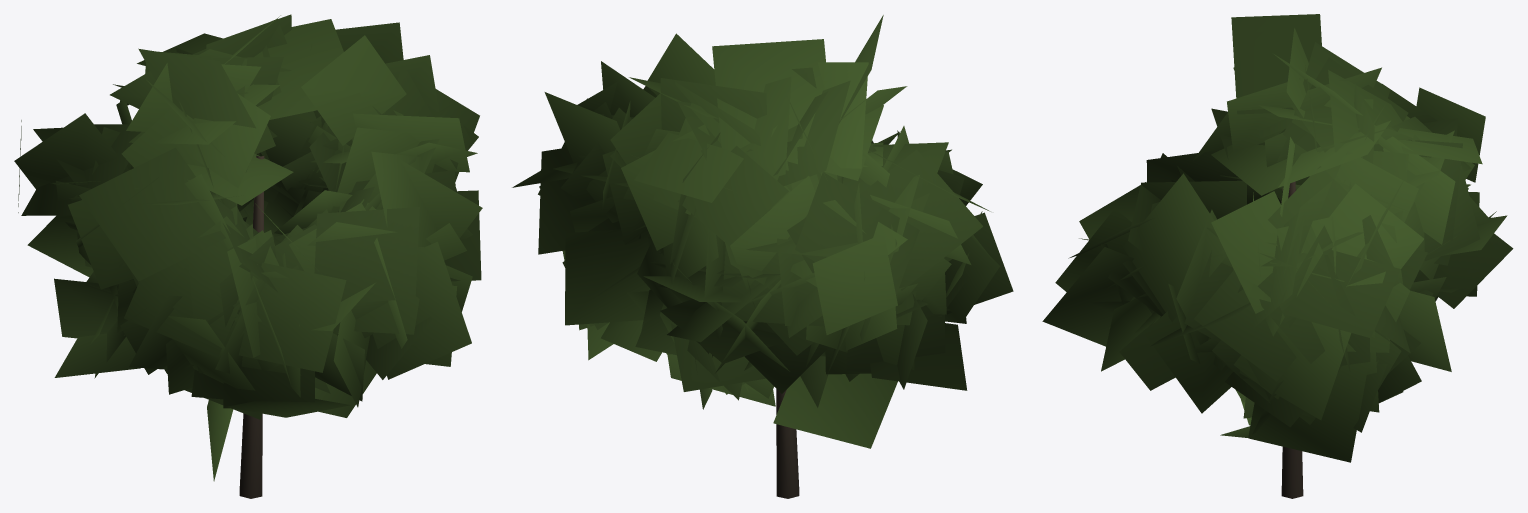
The model's file is SM_Dab_2.glb.
3 renders of one model, left to right at view 1: azimuth 30°, elevation 25°; view 2: azimuth 150°, elevation 25°; view 3: azimuth 270°, elevation 25°, orthographic. The views are drawn at different scales.
Visible parts, largest first — view 1: SM_Dab_2; view 2: SM_Dab_2; view 3: SM_Dab_2.
Boxes of the visible parts, box(x1,y1,x2,y2) form: SM_Dab_2: box(14, 14, 482, 498); SM_Dab_2: box(512, 15, 1013, 498); SM_Dab_2: box(1042, 14, 1513, 498).
Bounding box in the file's own units: 14.19 × 15.12 × 14.44.
